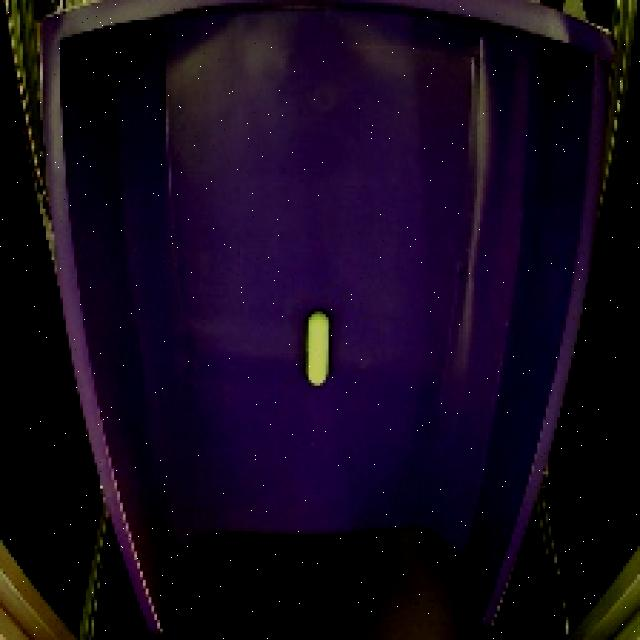small: (298, 301, 334, 391)
